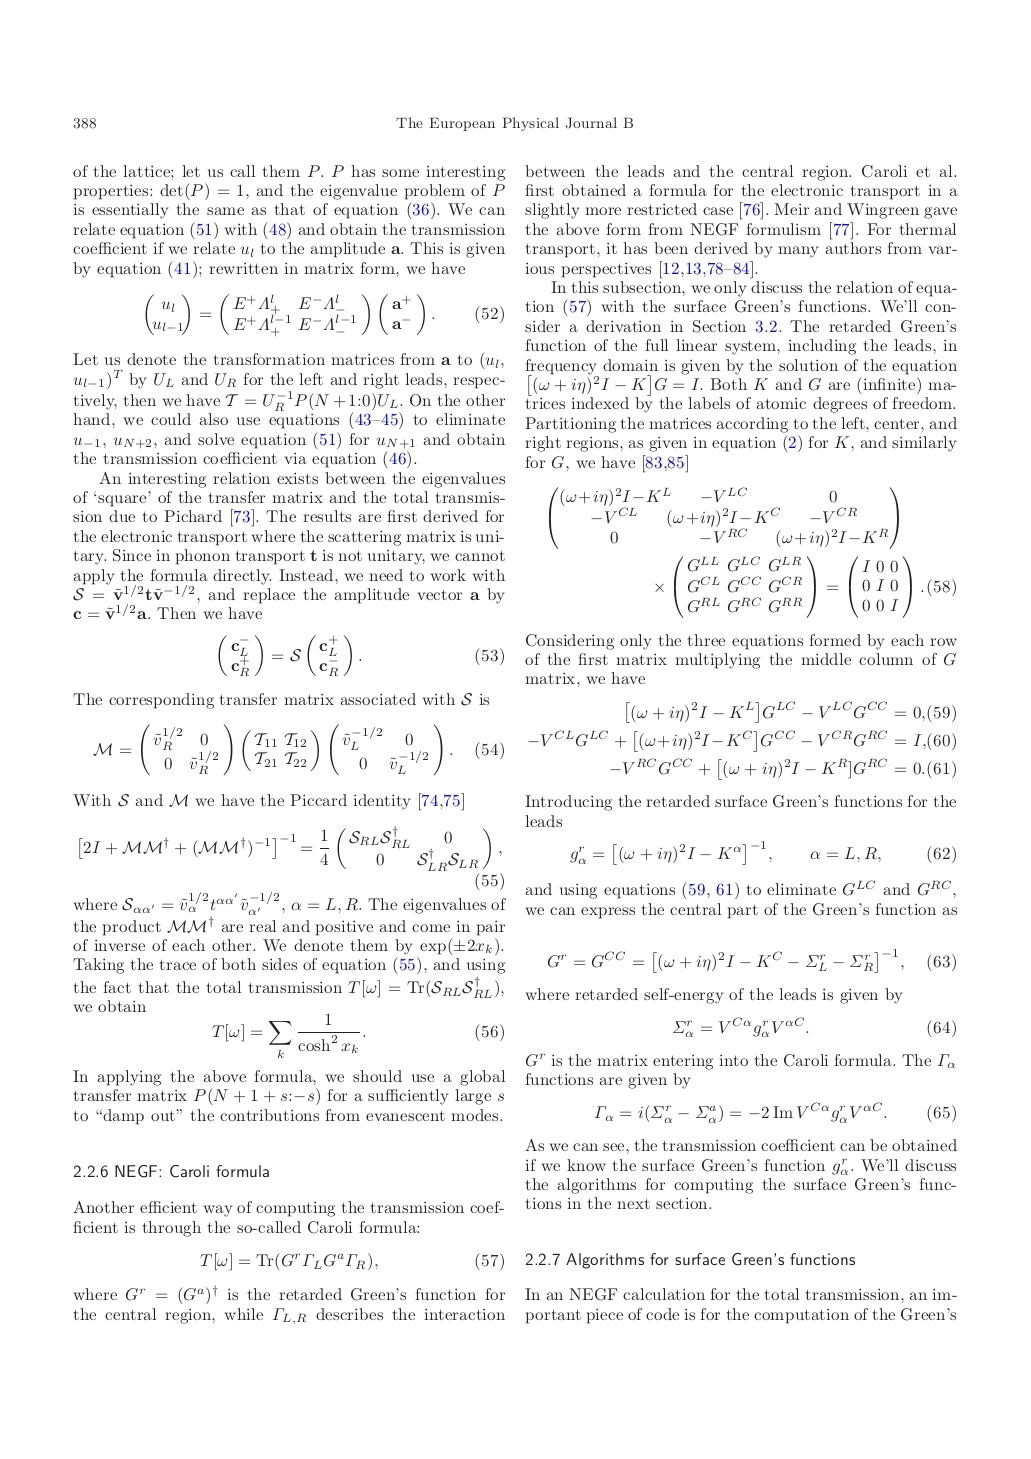formula: (93, 722, 503, 776), (549, 486, 898, 549), (79, 827, 501, 871), (655, 555, 955, 618), (145, 292, 503, 337), (212, 1013, 503, 1057), (218, 634, 503, 677), (547, 948, 955, 973), (570, 840, 955, 864), (594, 1101, 955, 1123), (626, 700, 955, 723), (673, 1015, 955, 1037), (200, 1252, 503, 1270)
